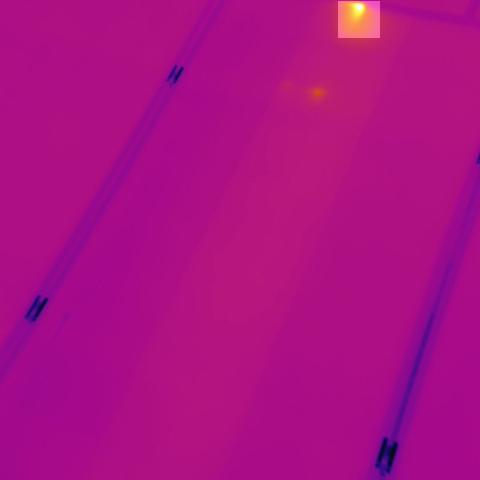fault: (338, 1, 380, 38)
